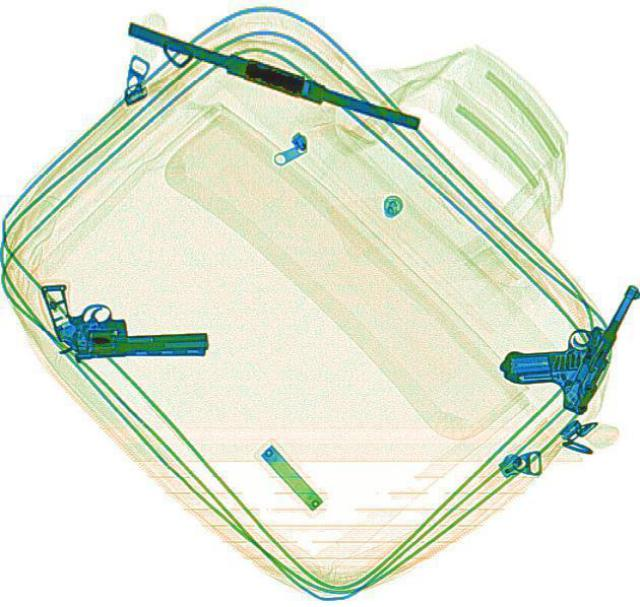Gun: (488, 250, 638, 417), (37, 279, 207, 360)
